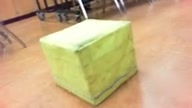cube: (39, 19, 138, 106)
